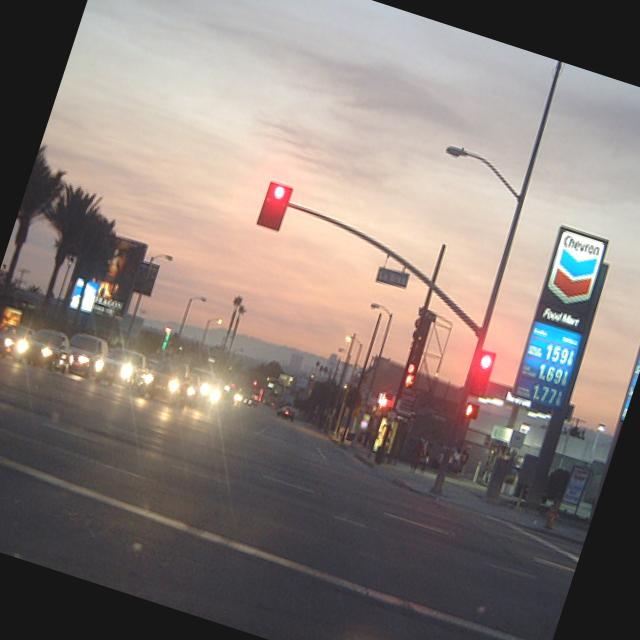Vehicle: (12, 322, 74, 374), (95, 342, 152, 398), (54, 328, 111, 382), (137, 356, 194, 410), (0, 315, 32, 363), (193, 376, 225, 411), (178, 371, 205, 410), (277, 404, 297, 422)
